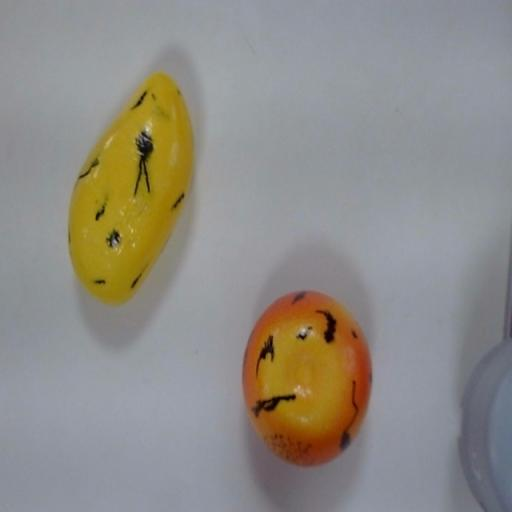Defective: (66, 62, 196, 307), (237, 280, 376, 476)
